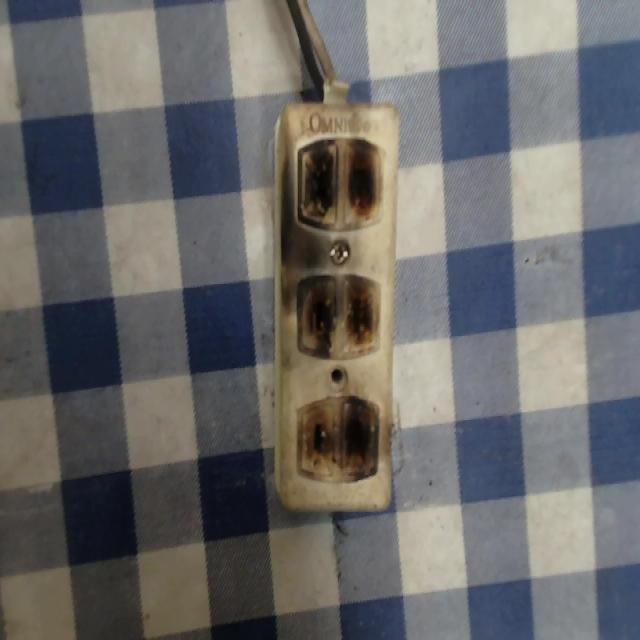-: (293, 132, 385, 227), (291, 391, 380, 481), (293, 269, 382, 356)
